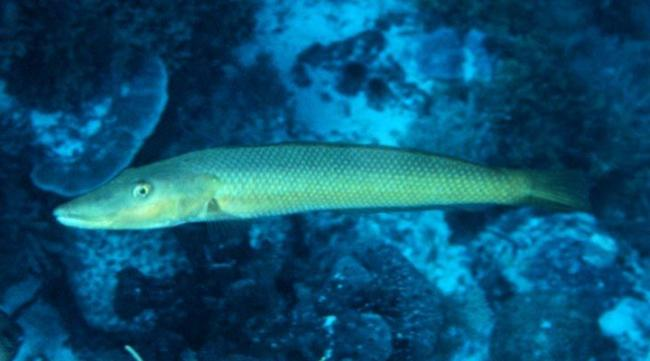fish: (52, 144, 581, 231)
